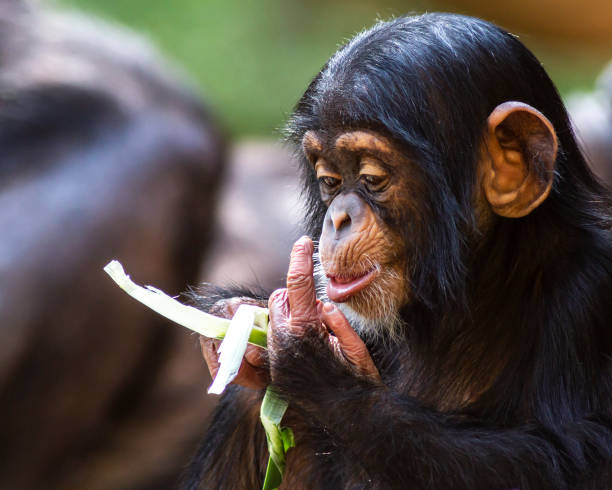chimpanzee: (279, 5, 596, 381)
